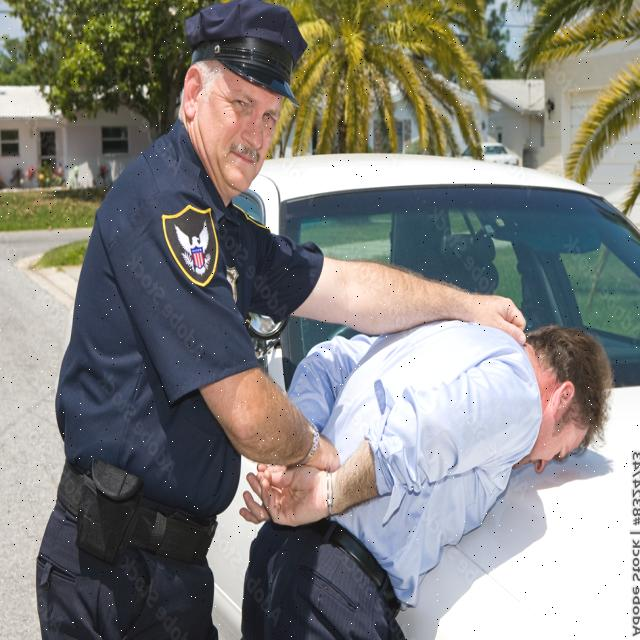police: (35, 0, 374, 640)
